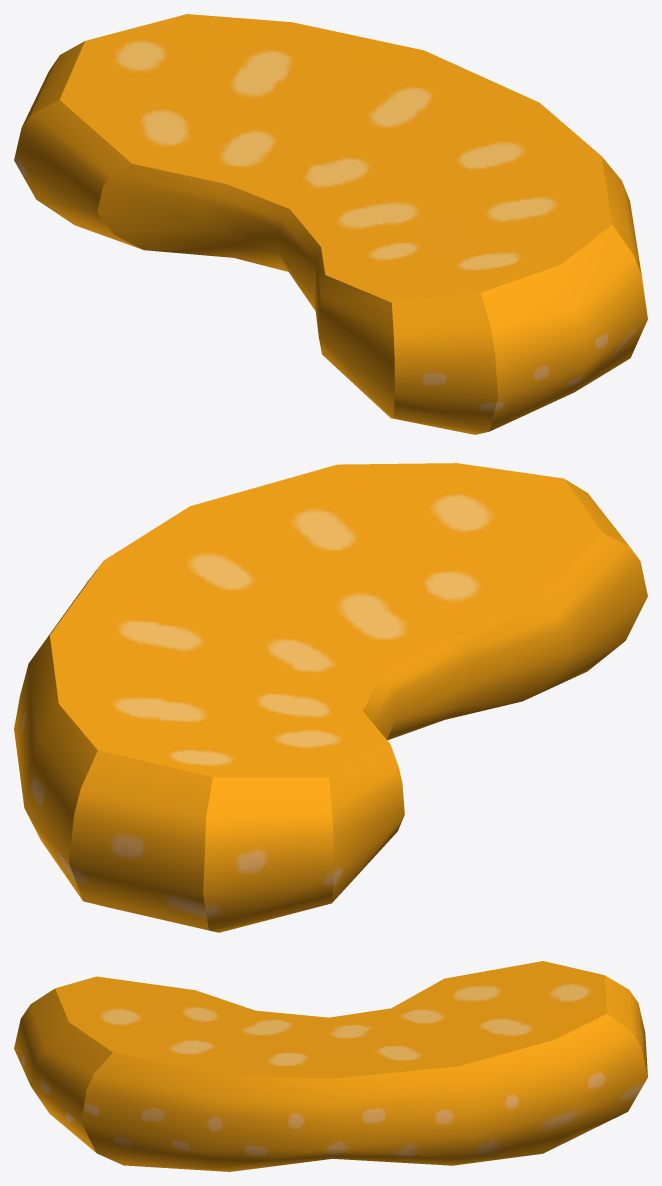
File: orange.fbx
3 views of the same model, one above another, from view 1: azimuth 30°, elevation 25°; view 2: azimuth 150°, elevation 25°; view 3: azimuth 270°, elevation 25° (orthographic). The views are drawn at different scales.
Visible parts, largest first — view 1: polySurface1; view 2: polySurface1; view 3: polySurface1.
Boxes of the visible parts, box(x1,y1,x2,y2) form: polySurface1: box(14, 14, 647, 434); polySurface1: box(14, 463, 647, 932); polySurface1: box(14, 961, 647, 1171).
Size of the model in its own units: 4.92 by 1.81 by 8.95.
